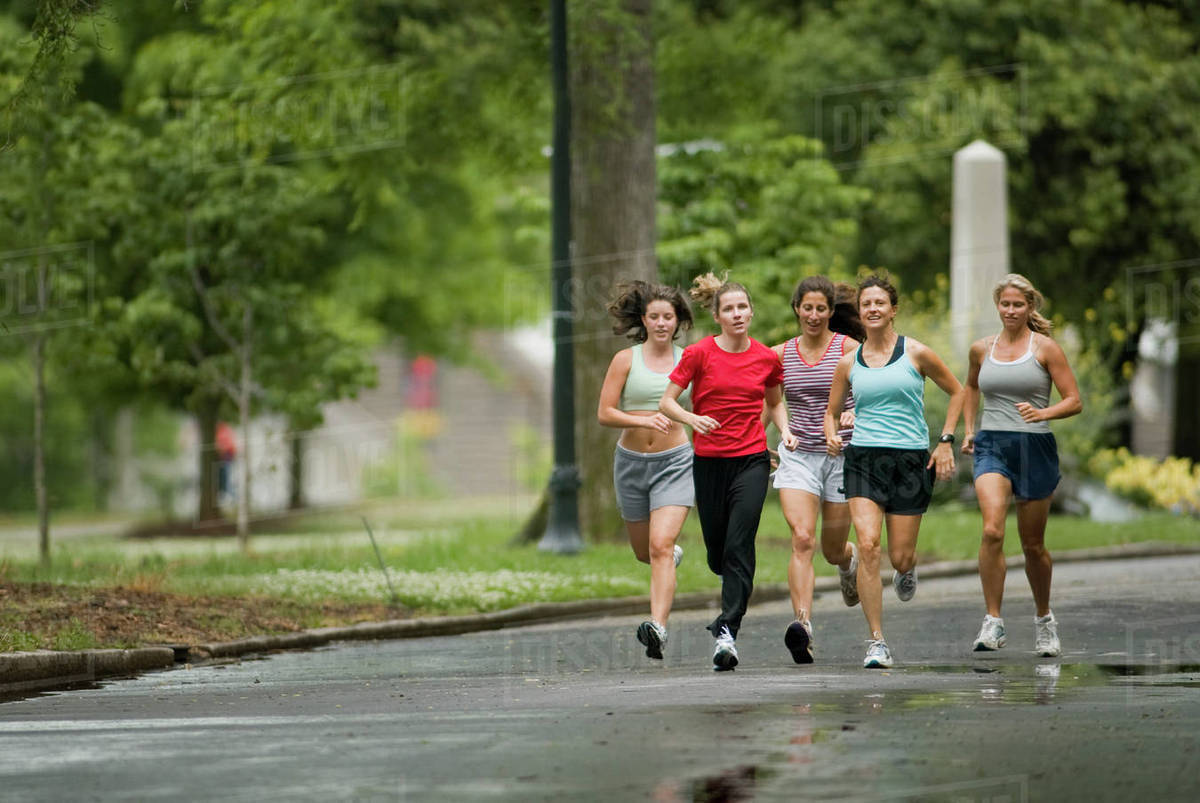Person: (658, 268, 800, 672), (824, 276, 963, 668), (962, 272, 1087, 657), (766, 275, 866, 667), (596, 280, 693, 663)
